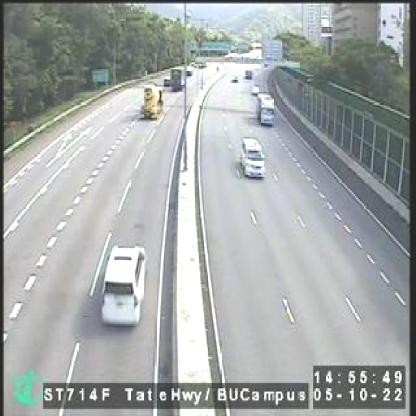Car: (102, 244, 146, 322), (240, 137, 264, 180)
Truck: (138, 83, 161, 118), (256, 94, 274, 126)
